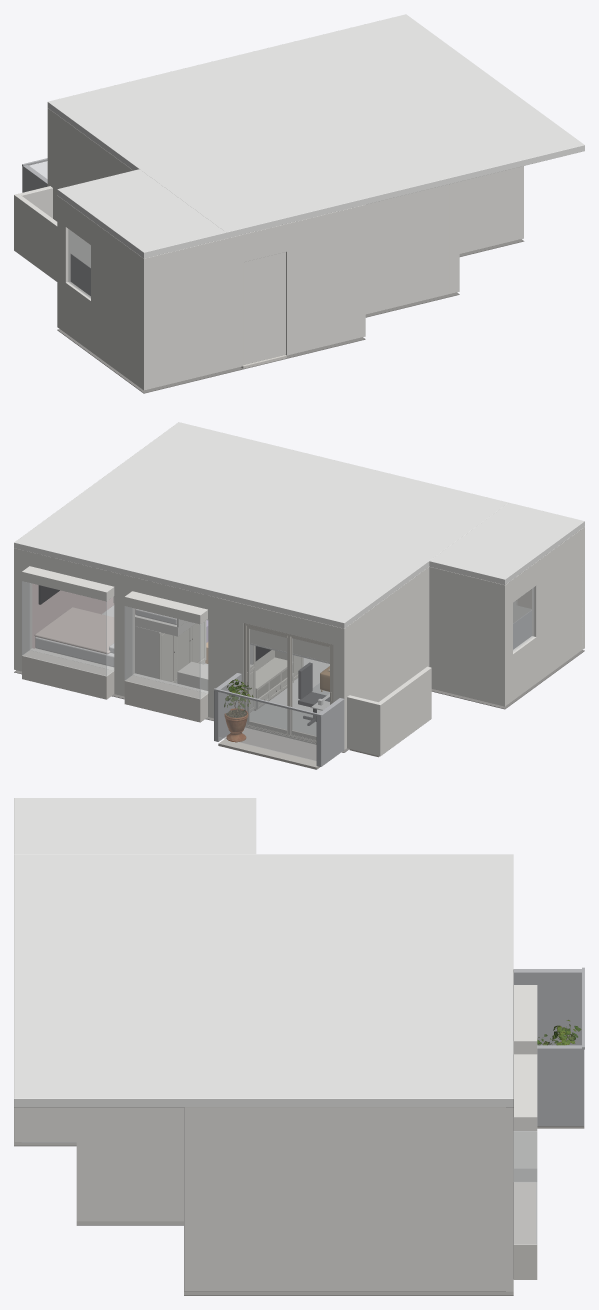
3 renders of one model, top to bottom at view 1: azimuth 30°, elevation 25°; view 2: azimuth 150°, elevation 25°; view 3: azimuth 270°, elevation 25°, orthographic. The views are drawn at different scales.
Visible parts, largest first — view 1: Ceiling, Wall S living, Wall S kitchen, Wall kitchen W, Wall bath south, Ceiling kitchen, Wall MBR south, Door main, Wall W living, Parapet utility, Window kitchen, Wall bath-MBR (+6 smaller); view 2: Ceiling, Wall kitchen W, Wall kitchen top, Wall W living, Ceiling kitchen, Wall N bedrooms, Bay glass 1, Bay glass 0, Wall N living, Balcony glass, Balcony door E glass, Balcony door W glass (+30 smaller); view 3: Ceiling, Wall E, Ceiling kitchen, Wall bath-MBR, Balcony rail E, Balcony rail W, Bay glass side R 1, Bay sill 1, Wall living-bath, Bay head 1, Bay head 0, Bay sill 0 (+2 smaller).
Boxes of the visible parts, <box> form: Ceiling: <box>47,14,584,238</box>; Wall S living: <box>231,205,362,369</box>; Wall S kitchen: <box>141,238,226,390</box>; Wall kitchen W: <box>57,195,143,389</box>; Wall bath south: <box>365,184,449,314</box>; Ceiling kitchen: <box>57,169,226,258</box>; Wall MBR south: <box>459,166,523,253</box>; Door main: <box>243,252,285,364</box>; Wall W living: <box>48,109,230,370</box>; Parapet utility: <box>16,195,57,281</box>; Window kitchen: <box>68,229,90,298</box>; Wall bath-MBR: <box>450,181,459,293</box>; Ceiling: <box>14,422,508,628</box>; Wall kitchen W: <box>500,528,582,706</box>; Wall kitchen top: <box>429,566,504,705</box>; Wall W living: <box>340,567,429,748</box>; Ceiling kitchen: <box>429,502,584,584</box>; Wall N bedrooms: <box>14,548,215,718</box>; Bay glass 1: <box>22,581,106,675</box>; Bay glass 0: <box>125,606,200,698</box>; Wall N living: <box>216,597,346,749</box>; Balcony glass: <box>218,692,316,760</box>; Balcony door E glass: <box>249,629,286,729</box>; Balcony door W glass: <box>292,638,329,735</box>; Ceiling: <box>14,854,513,1107</box>; Wall E: <box>184,1107,513,1291</box>; Ceiling kitchen: <box>14,798,256,854</box>; Wall bath-MBR: <box>76,1107,183,1221</box>; Balcony rail E: <box>537,1045,584,1126</box>; Balcony rail W: <box>513,969,581,1045</box>; Bay glass side R 1: <box>514,1131,536,1244</box>; Bay sill 1: <box>513,1182,537,1279</box>; Wall living-bath: <box>14,1107,76,1141</box>; Bay head 1: <box>513,1054,537,1130</box>; Bay head 0: <box>513,985,537,1054</box>; Bay sill 0: <box>514,1131,536,1181</box>.
Bounding box in the file's own units: 9.1 × 2.8 × 7.3.
Materials: 188 (6 with a texture image).
